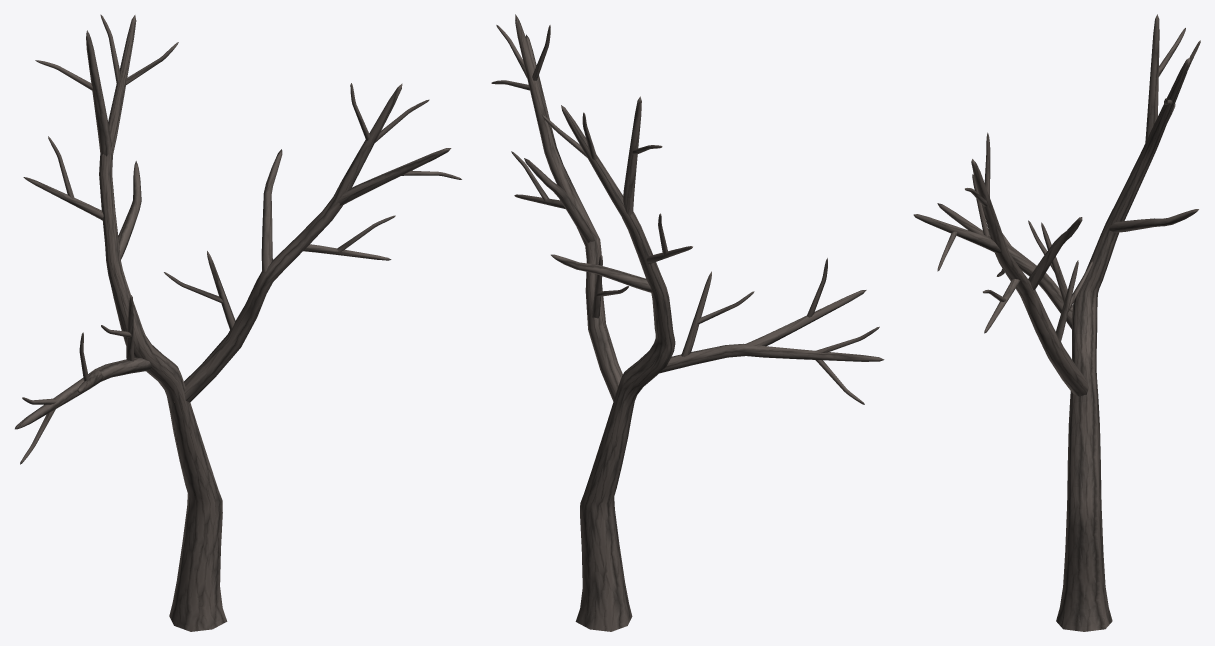
Rendered from dead_tree_05.glb.
3 renders of one model, left to right at view 1: azimuth 30°, elevation 25°; view 2: azimuth 150°, elevation 25°; view 3: azimuth 270°, elevation 25°, orthographic. The views are drawn at different scales.
Visible parts, largest first — view 1: DeadTree_10; view 2: DeadTree_10; view 3: DeadTree_10.
Part boxes in pixels (box(x1,y1,x2,y2)): DeadTree_10: box(15, 14, 461, 631); DeadTree_10: box(491, 14, 884, 631); DeadTree_10: box(913, 14, 1200, 631).
Size of the model in its own units: 5.46 by 7.13 by 3.24.
Materials: 1 (1 with a texture image).
